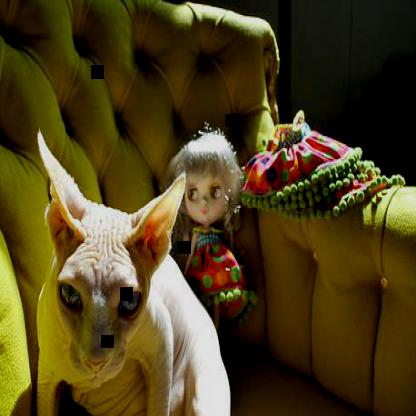cat: (36, 129, 233, 415)
